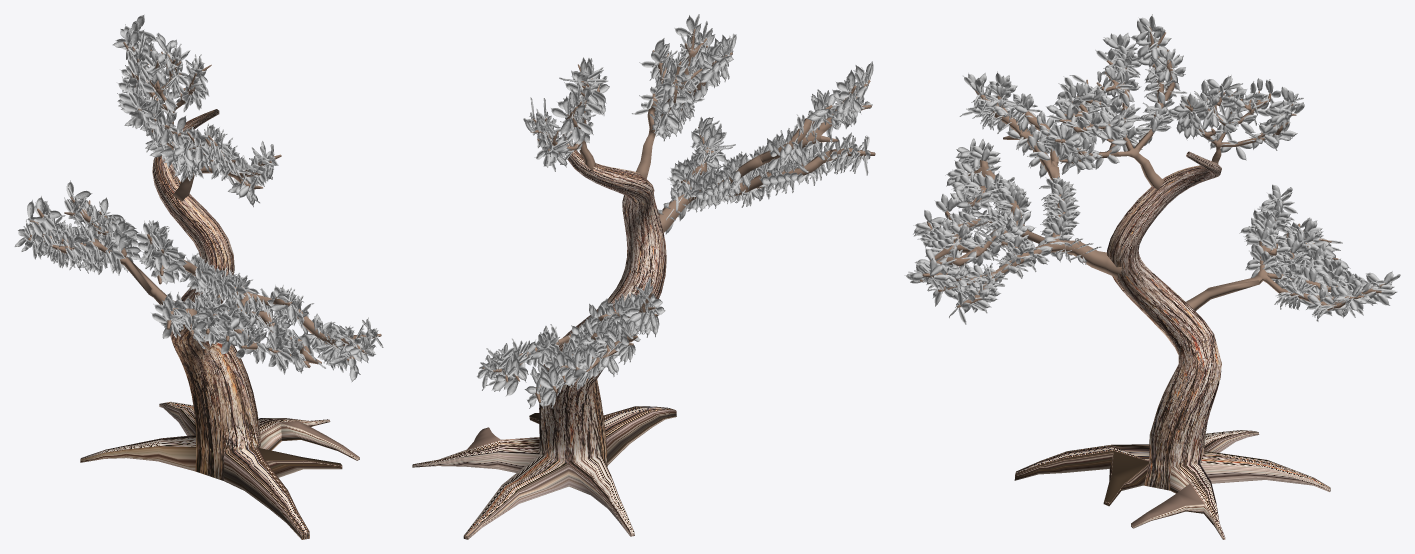
Rendered from bonsai-01.fbx.
The picture shows the model from 3 angles, left to right: view 1: azimuth 30°, elevation 25°; view 2: azimuth 150°, elevation 25°; view 3: azimuth 270°, elevation 25°; orthographic projection. The views are drawn at different scales.
Visible parts, largest first — view 1: Tree.001; view 2: Tree.001; view 3: Tree.001.
Part boxes in pixels (bbox=[...]): Tree.001: bbox=[28, 42, 381, 539]; Tree.001: bbox=[412, 29, 875, 539]; Tree.001: bbox=[920, 27, 1385, 539].
Size of what is drawn, in the model's own units: 306 by 436 by 462.
